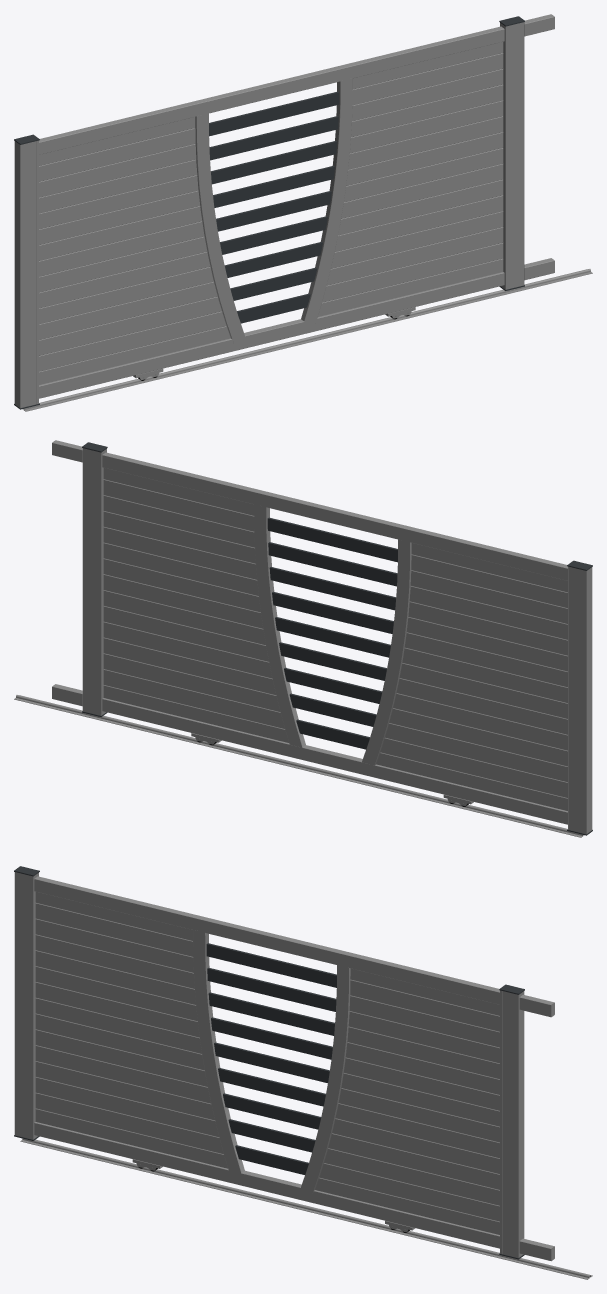
3 renders of one model, top to bottom at view 1: azimuth 30°, elevation 25°; view 2: azimuth 150°, elevation 25°; view 3: azimuth 330°, elevation 25°, orthographic.
Visible parts, largest first — view 1: Plane007, Shape107412186, Shape107412185, Shape107412643, Shape107413021, Shape107413019, Rail, Shape107412183, Line133, Line132, Line148, Line131 (+26 smaller); view 2: Plane007, Shape107412186, Shape107412185, Shape107412643, Shape107413021, Shape107413019, Rail, Shape107412183, Line133, Line132, Line148, Line131 (+26 smaller); view 3: Plane007, Shape107412186, Shape107412185, Shape107413021, Shape107412643, Shape107412183, Rail, Shape107413019, Line133, Line132, Line148, Line131 (+26 smaller).
Boxes of the visible parts, <box> form: Plane007: <box>209,91,339,323</box>; Shape107412186: <box>39,14,554,154</box>; Shape107412185: <box>39,258,554,398</box>; Shape107412643: <box>14,140,38,408</box>; Shape107413021: <box>500,22,524,289</box>; Shape107413019: <box>301,78,352,323</box>; Rail: <box>22,269,592,411</box>; Shape107412183: <box>195,113,244,343</box>; Line133: <box>39,311,226,371</box>; Line132: <box>39,296,221,355</box>; Line148: <box>322,243,503,302</box>; Line131: <box>39,281,217,339</box>; Plane007: <box>267,517,397,749</box>; Shape107412186: <box>52,440,567,580</box>; Shape107412185: <box>52,684,567,824</box>; Shape107412643: <box>568,566,592,834</box>; Shape107413021: <box>82,448,106,715</box>; Shape107413019: <box>254,504,305,747</box>; Rail: <box>14,695,583,837</box>; Shape107412183: <box>362,539,411,765</box>; Line133: <box>380,738,567,797</box>; Line132: <box>385,723,567,782</box>; Line148: <box>103,669,284,728</box>; Line131: <box>389,708,567,766</box>; Plane007: <box>206,943,336,1174</box>; Shape107412186: <box>34,876,554,1017</box>; Shape107412185: <box>34,1122,554,1261</box>; Shape107413021: <box>500,990,524,1257</box>; Shape107412643: <box>14,872,38,1139</box>; Shape107412183: <box>193,930,244,1175</box>; Rail: <box>20,1138,592,1279</box>; Shape107413019: <box>301,965,350,1194</box>; Line133: <box>35,1093,223,1154</box>; Line132: <box>35,1077,219,1137</box>; Line148: <box>319,1163,499,1221</box>; Line131: <box>35,1061,214,1120</box>.
Size of the model in its own units: 3638 by 1636 by 70.
Materials: 7 (3 with a texture image).
